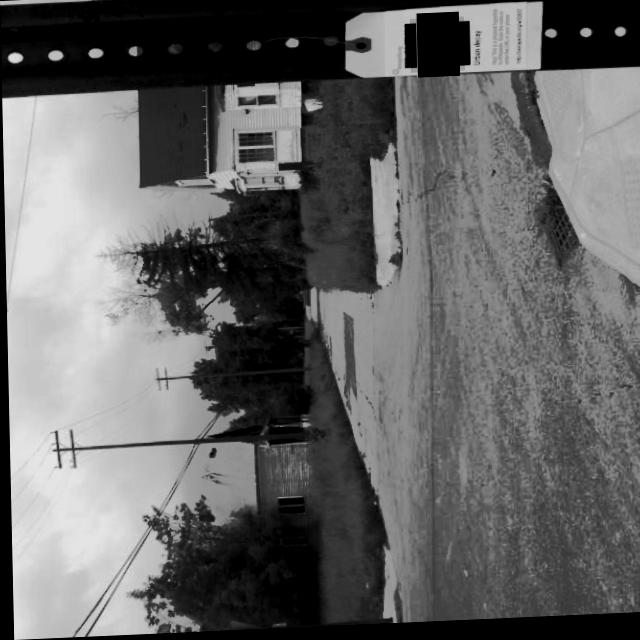qr_code: (410, 19, 465, 75)
